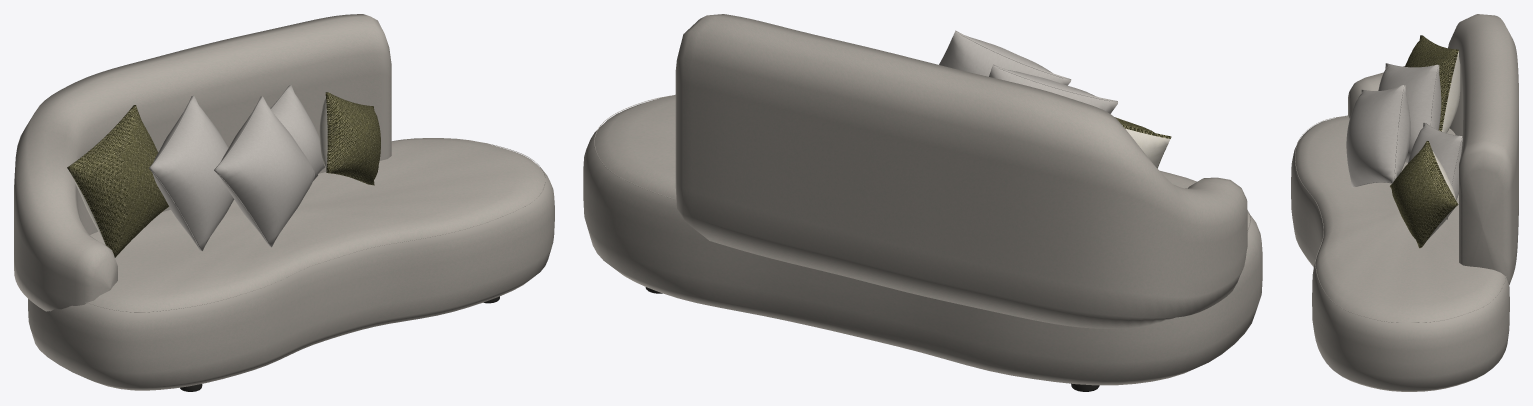
File: sofa-mobile.glb
The picture shows the model from 3 angles, left to right: view 1: azimuth 30°, elevation 25°; view 2: azimuth 150°, elevation 25°; view 3: azimuth 270°, elevation 25°; orthographic projection. The views are drawn at different scales.
Visible parts, largest first — view 1: seat_cover, back_cover, cushion_01_cover, cushion_03_cover, cushion_02_cover, cushion_05_cover, cushion_04_cover, seat_panel_seam; view 2: back_cover, seat_cover, cushion_03_cover, cushion_02_cover, cushion_01_cover; view 3: seat_cover, back_cover, cushion_03_cover, cushion_05_cover, cushion_02_cover, cushion_01_cover, cushion_04_cover, seat_panel_seam.
Part boxes in pixels (x1,y1,x2,y2): seat_cover: (28,138,554,390); back_cover: (14,14,391,311); cushion_01_cover: (67,105,168,257); cushion_03_cover: (214,96,317,247); cushion_02_cover: (149,95,234,250); cushion_05_cover: (319,92,380,185); cushion_04_cover: (270,85,325,173); seat_panel_seam: (84,142,545,312); back_cover: (675,14,1247,328); seat_cover: (583,94,1262,385); cushion_03_cover: (939,30,1071,85); cushion_02_cover: (989,64,1117,113); cushion_01_cover: (1115,117,1171,167); seat_cover: (1291,116,1509,391); back_cover: (1348,14,1518,284); cushion_03_cover: (1346,85,1410,187); cushion_05_cover: (1390,141,1458,248); cushion_02_cover: (1378,63,1441,161); cushion_01_cover: (1405,35,1460,132); cushion_04_cover: (1408,123,1462,219); seat_panel_seam: (1295,115,1506,322).
Size of the model in its own units: 2.5 by 1.13 by 1.1.
Materials: 8 (7 with a texture image).
